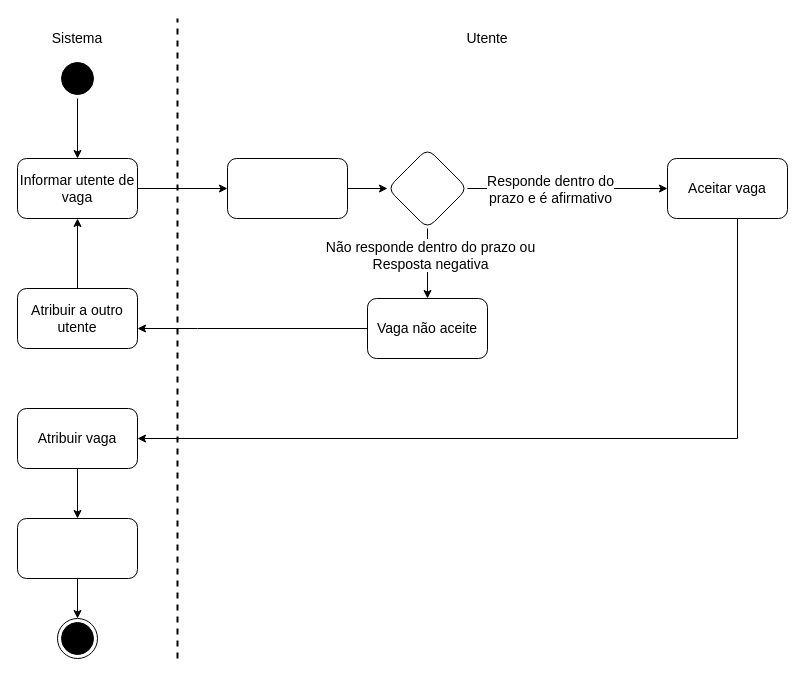
Image size: 805x677. Some labels were removed from this diagram. The centre of each missing label's shape, as x and y in pixels:
"Guardar no histórico" goes at [77,548].
"Resposta do utente" goes at [287,188].
